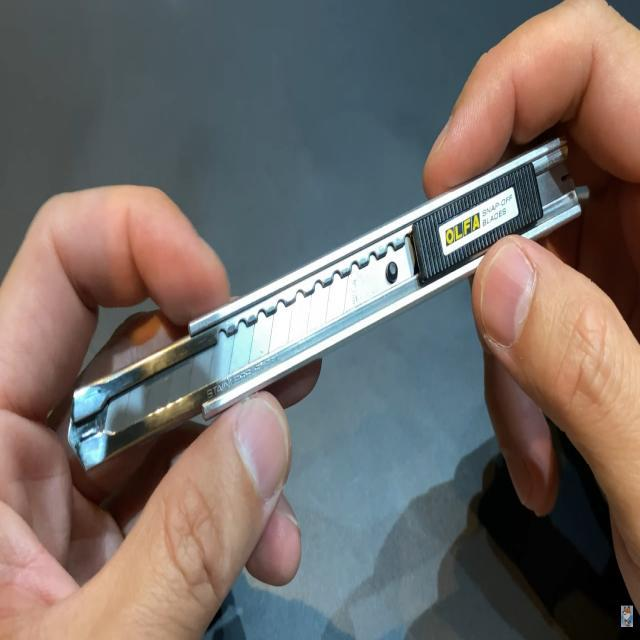cutter: (0, 1, 640, 640)
